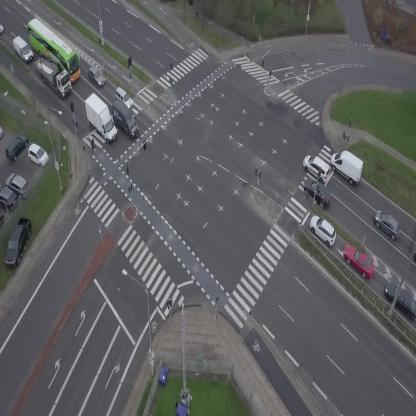bicycle: (192, 6, 201, 21), (88, 137, 97, 152)
bus: (18, 15, 90, 85)
car: (338, 239, 380, 283), (298, 173, 338, 211), (304, 211, 342, 248), (369, 207, 406, 242), (298, 151, 335, 184), (111, 86, 137, 111), (83, 64, 108, 89), (0, 23, 4, 34)
lorry: (24, 46, 80, 101), (80, 89, 120, 147), (325, 145, 370, 187), (103, 98, 146, 141), (8, 34, 37, 64), (413, 246, 416, 263)
